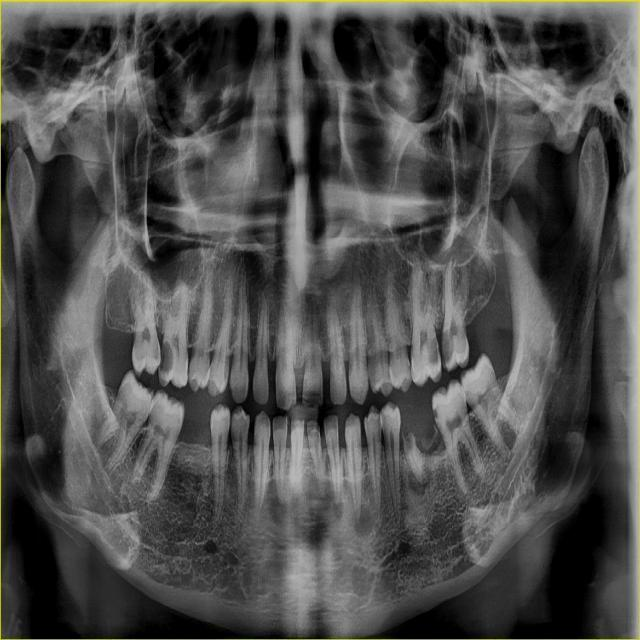Caries: (158, 335, 175, 383), (440, 328, 454, 367), (427, 335, 441, 370), (153, 339, 160, 364), (433, 406, 440, 427)
Missing teeth: (176, 405, 214, 449)
Periapical lesion: (410, 469, 425, 494), (356, 508, 370, 534), (352, 268, 362, 279)
Root Piece: (402, 423, 430, 484), (420, 424, 438, 451)
